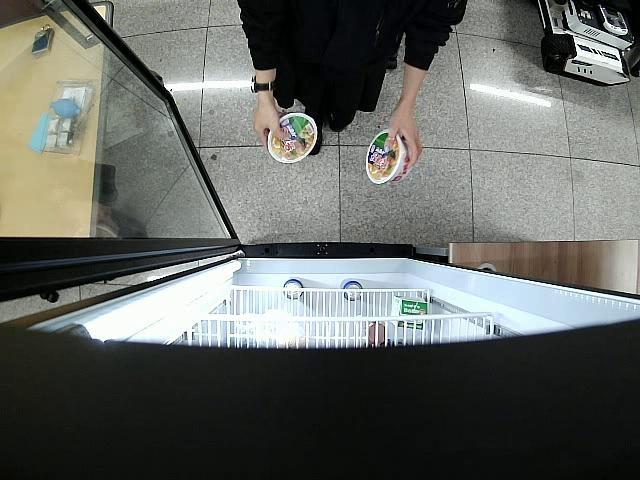09_yukGaeJang: (365, 128, 412, 186), (268, 111, 318, 164)
